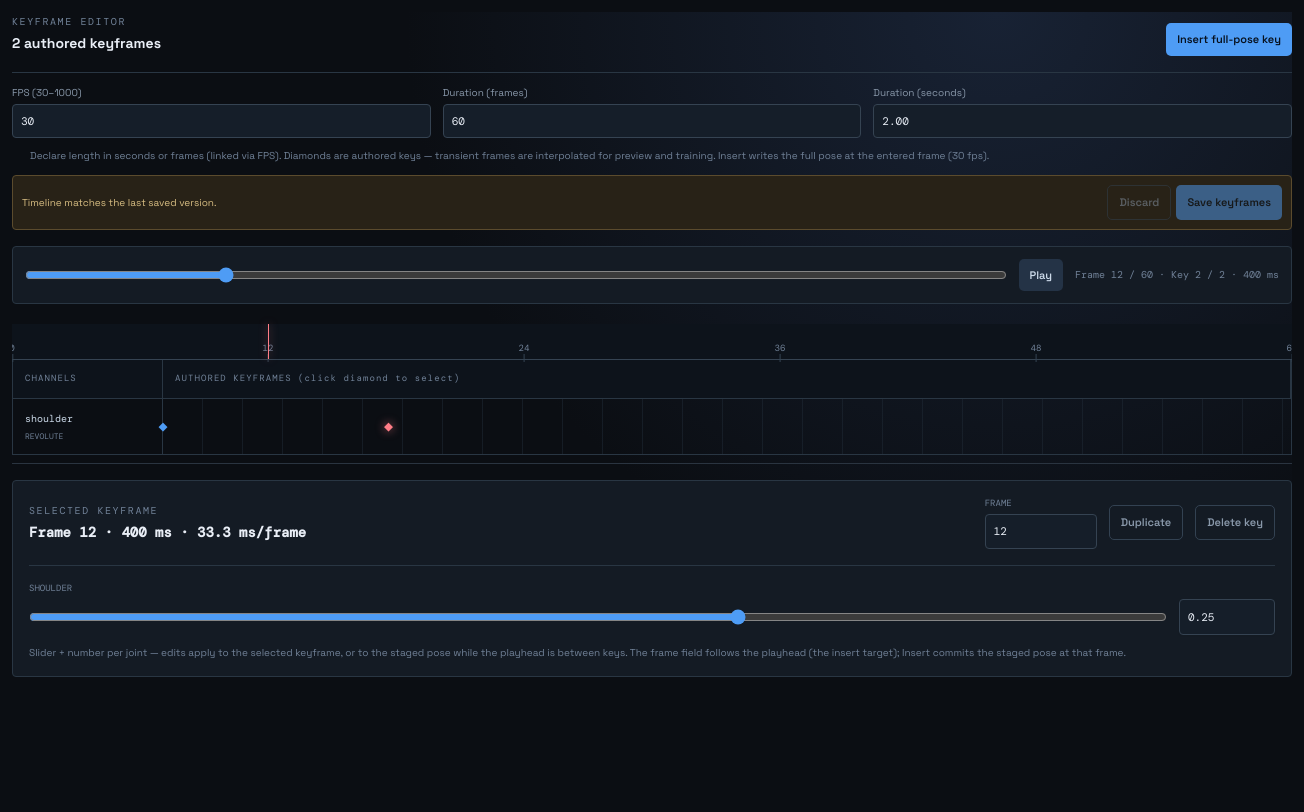
Scenario: TimelinePanel selected keypose flow › rejects an out-of-range pose value
Replace the text in the number field named "shoulder at selected keyframe" with "2" at [1227, 617], box [1179,599,1275,635]
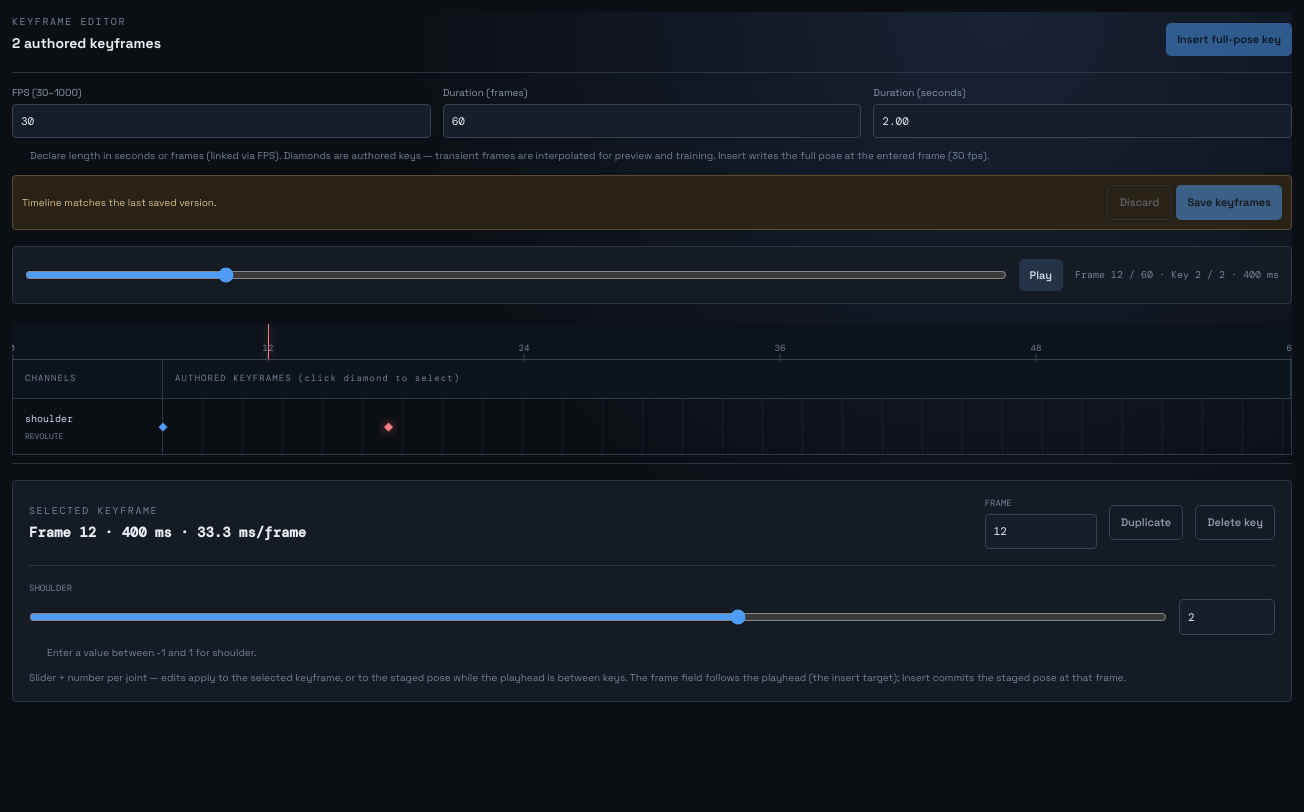
Check: the message reads "Enter a value between -1 and 1 for shoulder.", box [47,646,256,659]
Check: the button "Insert full-pose key" is disabled, box [1166,23,1292,56]
Leave the number field named "shoulder at selected keyframe", box [1179,599,1275,635]
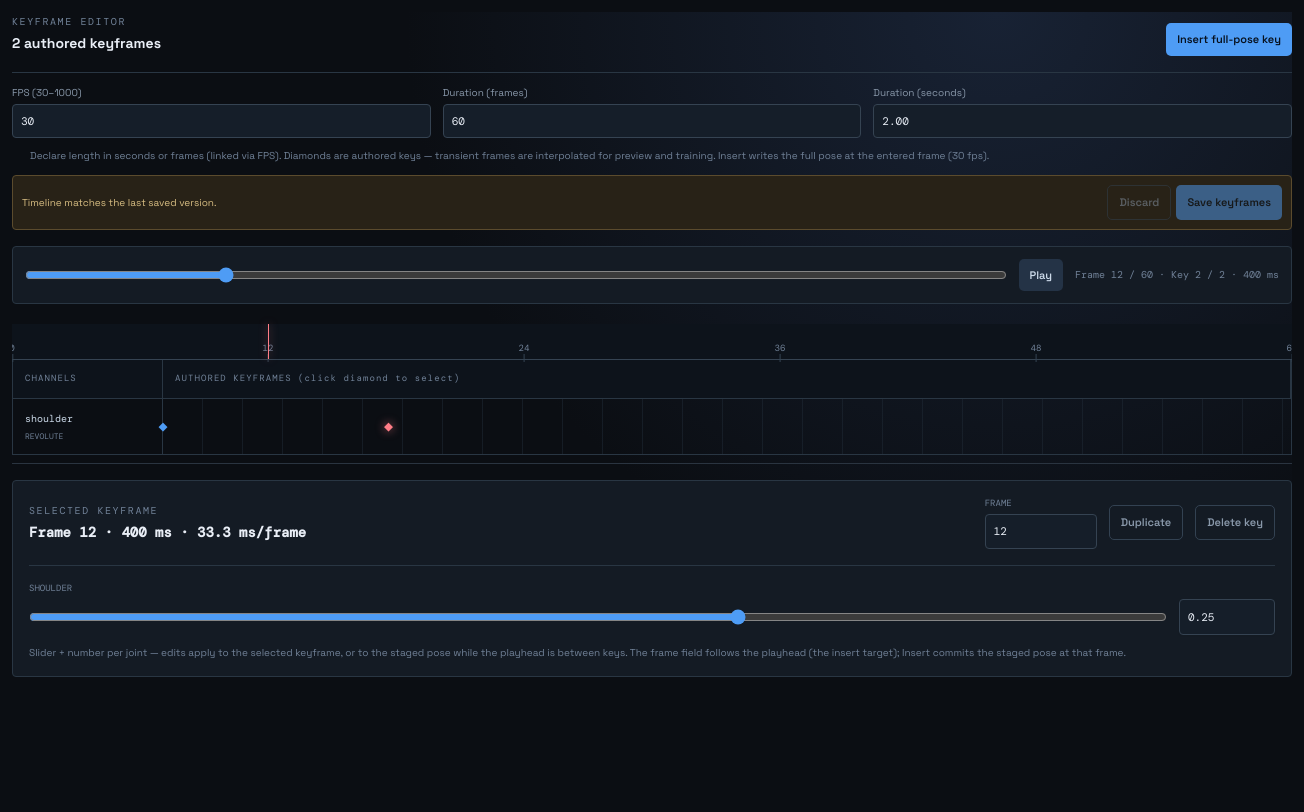
Check: the message "Enter a value between -1 and 1 for shoulder." is gone
Check: the button "Insert full-pose key" is enabled, box [1166,23,1292,56]
